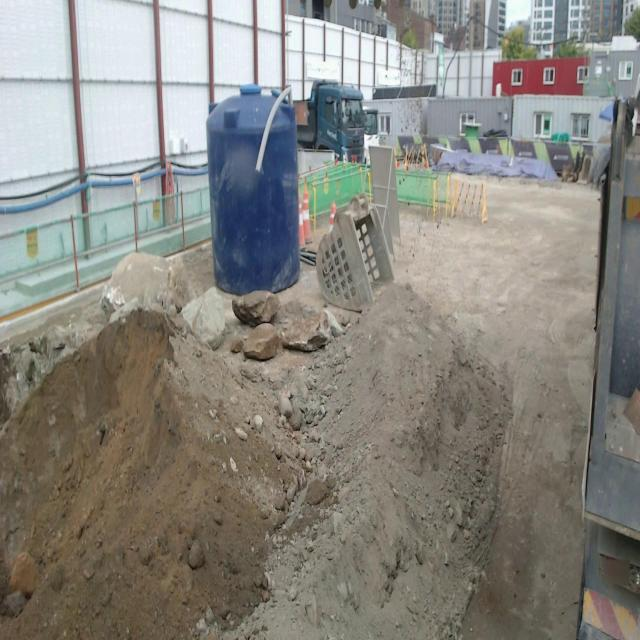stone: (101, 250, 212, 313), (274, 300, 330, 351), (180, 287, 225, 348), (232, 290, 279, 327), (242, 323, 282, 360)
white-sand: (0, 183, 598, 639)
